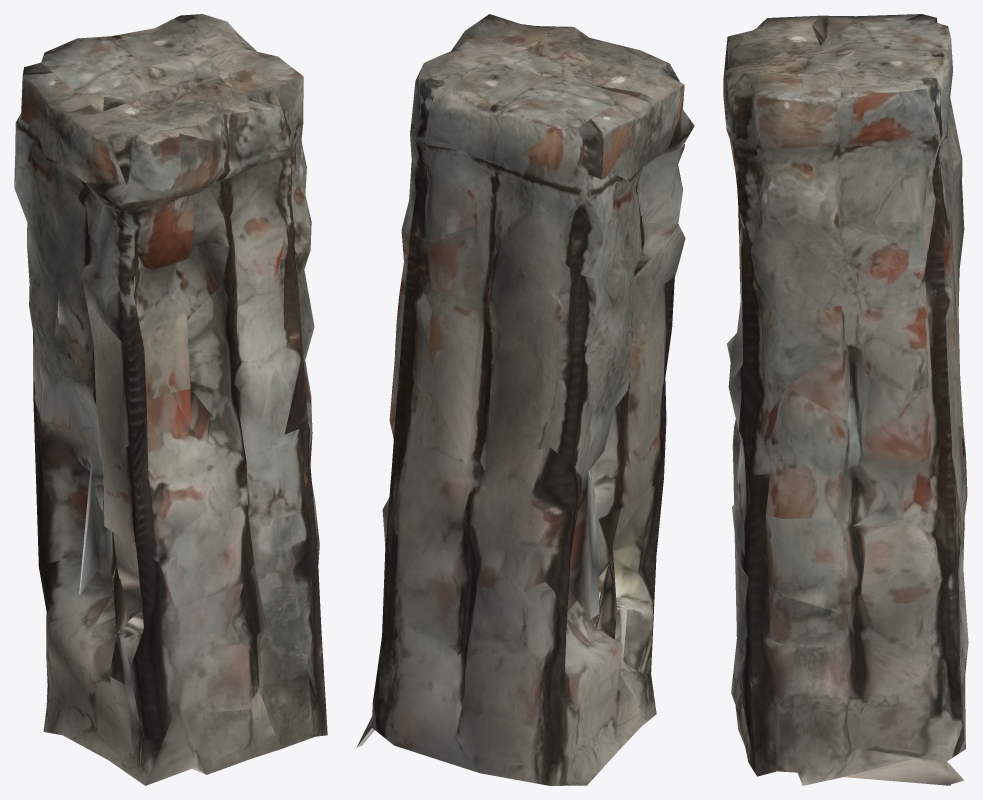
File: 3DModel_Custom.001.fbx
3 renders of one model, left to right at view 1: azimuth 30°, elevation 25°; view 2: azimuth 150°, elevation 25°; view 3: azimuth 270°, elevation 25°, orthographic.
Parts seen in each view (by area): view 1: 3DModel_Custom.001; view 2: 3DModel_Custom.001; view 3: 3DModel_Custom.001.
Part boxes in pixels (x1,y1,x2,y2): 3DModel_Custom.001: [14, 14, 327, 785]; 3DModel_Custom.001: [356, 14, 694, 785]; 3DModel_Custom.001: [723, 14, 968, 785].
Bounding box in the file's own units: 42.11 × 110 × 36.29.
1 material, 1 textured.
